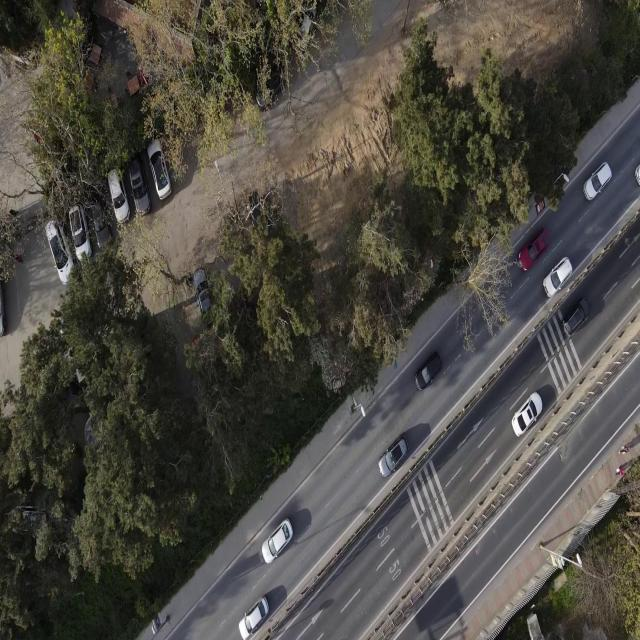p3rson: (12, 254, 23, 265), (618, 445, 628, 455), (9, 209, 20, 217), (615, 469, 626, 476)
